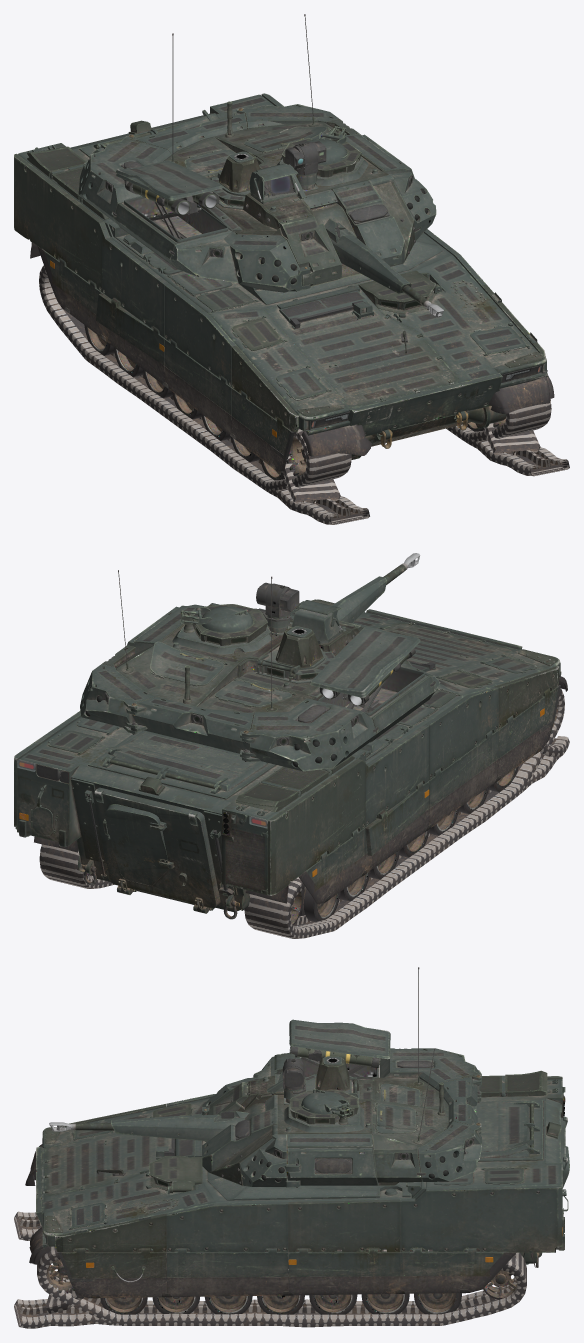
File: VEH_CV90.glb
3 views of the same model, one above another, from view 1: azimuth 30°, elevation 25°; view 2: azimuth 150°, elevation 25°; view 3: azimuth 270°, elevation 25° (orthographic). The views are drawn at different scales.
Parts seen in each view (by area): view 1: ob_veh_tank_cv90_base_s0, ob_veh_tank_cv90_base_s1, ob_veh_tank_cv90_tracks_s0_p1, ob_veh_tank_cv90_tracks_s0_p0; view 2: ob_veh_tank_cv90_base_s0, ob_veh_tank_cv90_base_s1, ob_veh_tank_cv90_tracks_s0_p1, ob_veh_tank_cv90_tracks_s0_p0; view 3: ob_veh_tank_cv90_base_s0, ob_veh_tank_cv90_base_s1, ob_veh_tank_cv90_tracks_s0_p0, ob_veh_tank_cv90_tracks_s0_p1.
Part boxes in pixels (box(x1,y1,x2,y2)): ob_veh_tank_cv90_base_s0: box(14, 93, 554, 480); ob_veh_tank_cv90_base_s1: box(78, 14, 443, 317); ob_veh_tank_cv90_tracks_s0_p1: box(39, 265, 369, 524); ob_veh_tank_cv90_tracks_s0_p0: box(446, 399, 569, 476); ob_veh_tank_cv90_base_s0: box(14, 599, 567, 925); ob_veh_tank_cv90_base_s1: box(80, 553, 440, 771); ob_veh_tank_cv90_tracks_s0_p1: box(244, 688, 569, 938); ob_veh_tank_cv90_tracks_s0_p0: box(39, 844, 114, 888); ob_veh_tank_cv90_base_s0: box(25, 1070, 569, 1314); ob_veh_tank_cv90_base_s1: box(49, 967, 481, 1187); ob_veh_tank_cv90_tracks_s0_p0: box(14, 1246, 526, 1328); ob_veh_tank_cv90_tracks_s0_p1: box(14, 1211, 41, 1240).
Size of the model in its own units: 3.43 by 3.91 by 6.84.
Materials: 6 (5 with a texture image).
